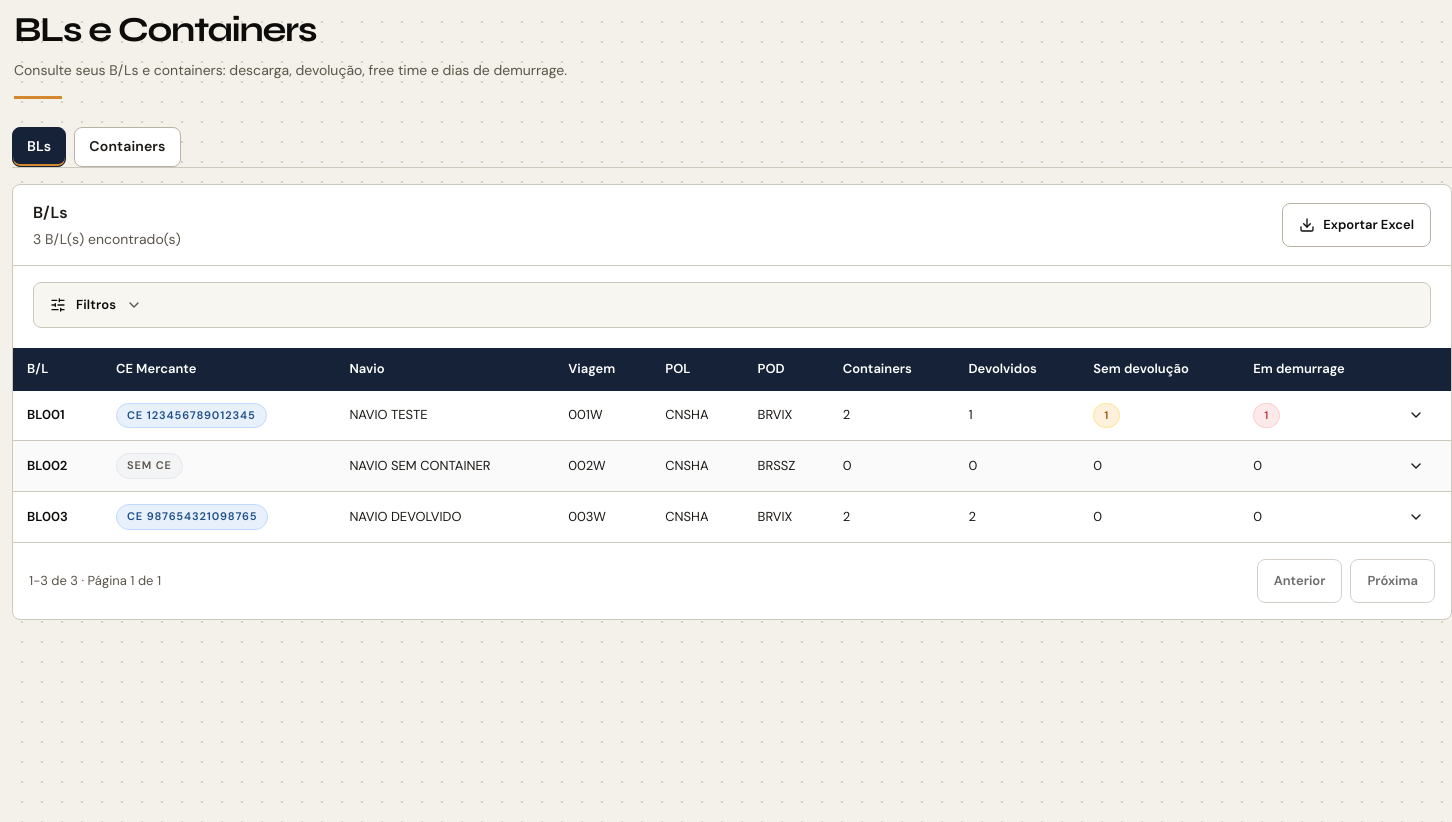
Test: PortalOperacao (BLs e Containers) › filtra B/Ls por navio na aba BLs
Step 1. Click the button "Filtros" → (96, 305), box [34,283,1418,327]
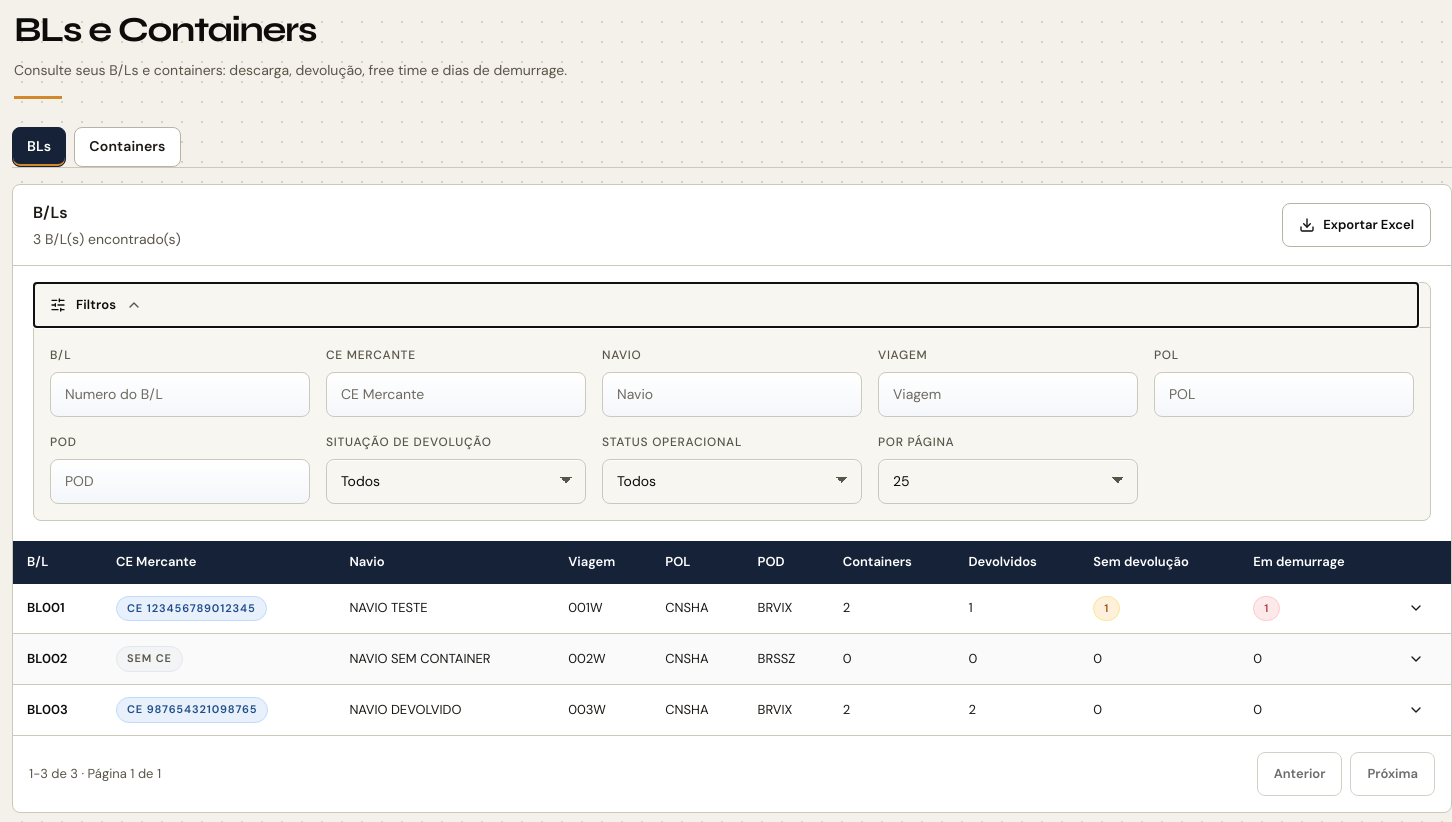
Step 2. Type "NAVIO TESTE" into the field labelled "Navio" → (732, 394), box [602,372,862,417]
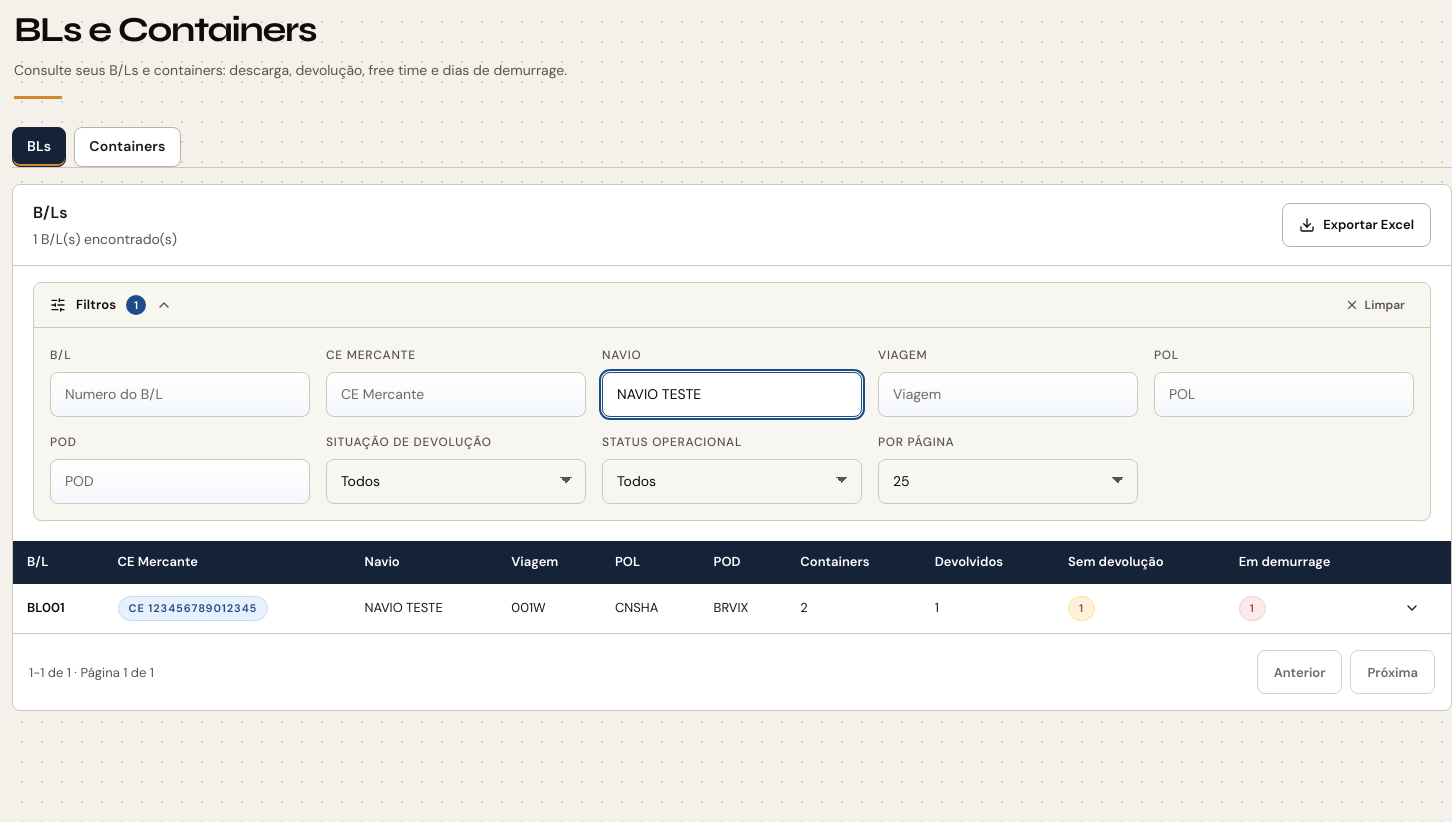
Expected: the text "BL001" is shown, [13,584,104,633]
Result: the text "BL003" is gone
